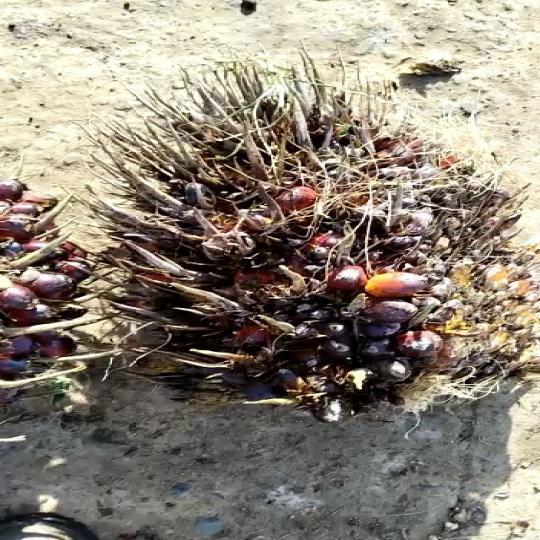terlalu masak: (99, 60, 540, 429)
